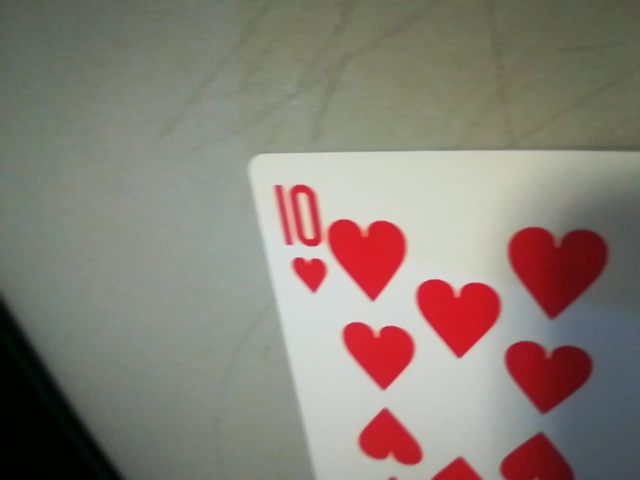hx 10: (263, 171, 330, 300)
